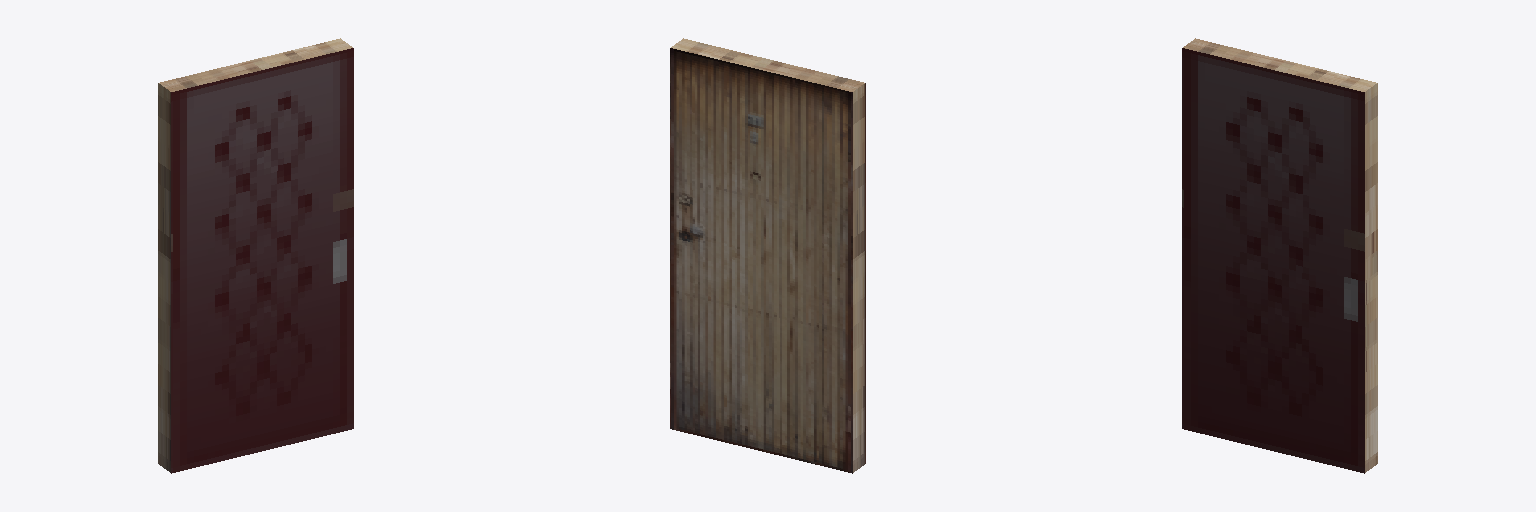
3 views of the same model, side by side, from view 1: azimuth 30°, elevation 25°; view 2: azimuth 150°, elevation 25°; view 3: azimuth 330°, elevation 25° (orthographic).
Visible parts, largest first — view 1: Cube; view 2: Cube; view 3: Cube.
Boxes of the visible parts, x1=… form: Cube: x1=158, y1=38, x2=353, y2=473; Cube: x1=670, y1=38, x2=865, y2=473; Cube: x1=1182, y1=38, x2=1377, y2=473.
Size of the model in its own units: 1.49 by 2.98 by 0.1827.
Materials: 2 (2 with a texture image).